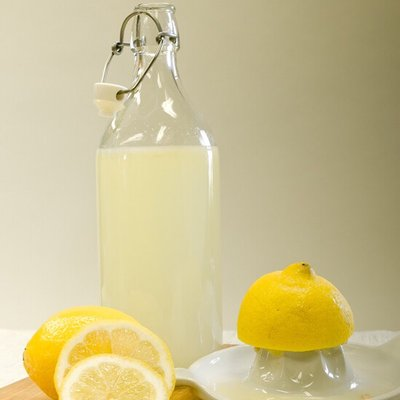taco: (22, 305, 177, 400), (236, 261, 356, 354)
